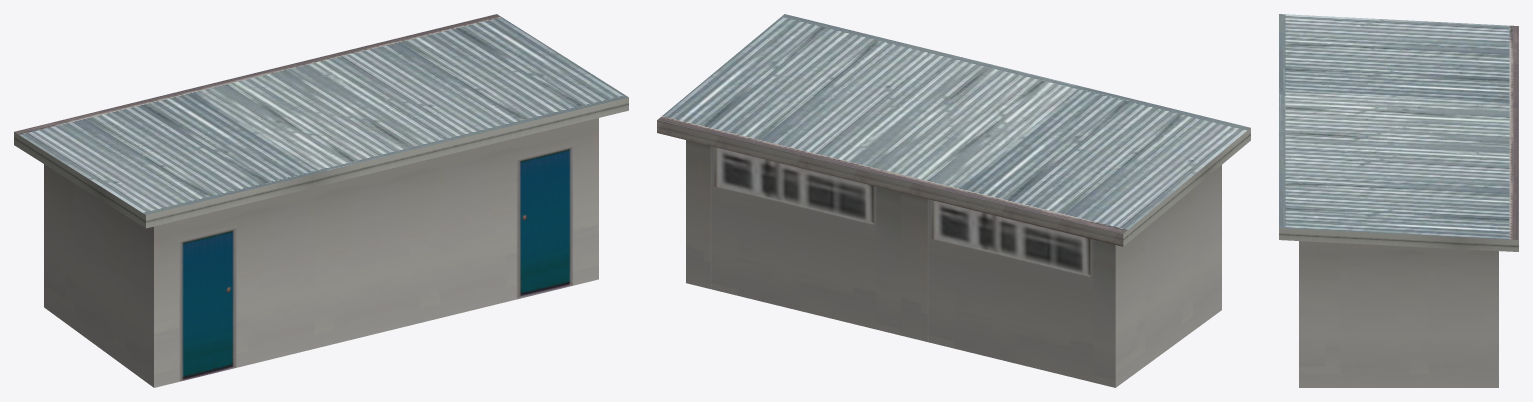
The model's file is shed-toilet-7x3x3-cbj_LOD00.gltf.
The picture shows the model from 3 angles, left to right: view 1: azimuth 30°, elevation 25°; view 2: azimuth 150°, elevation 25°; view 3: azimuth 270°, elevation 25°; orthographic projection. The views are drawn at different scales.
Visible parts, largest first — view 1: Sketchup; view 2: Sketchup; view 3: Sketchup.
Part boxes in pixels (x1,y1,x2,y2): Sketchup: (14,14,628,387); Sketchup: (657,14,1250,387); Sketchup: (1279,14,1518,387).
Size of the model in its own units: 7.6 by 2.79 by 3.6.
